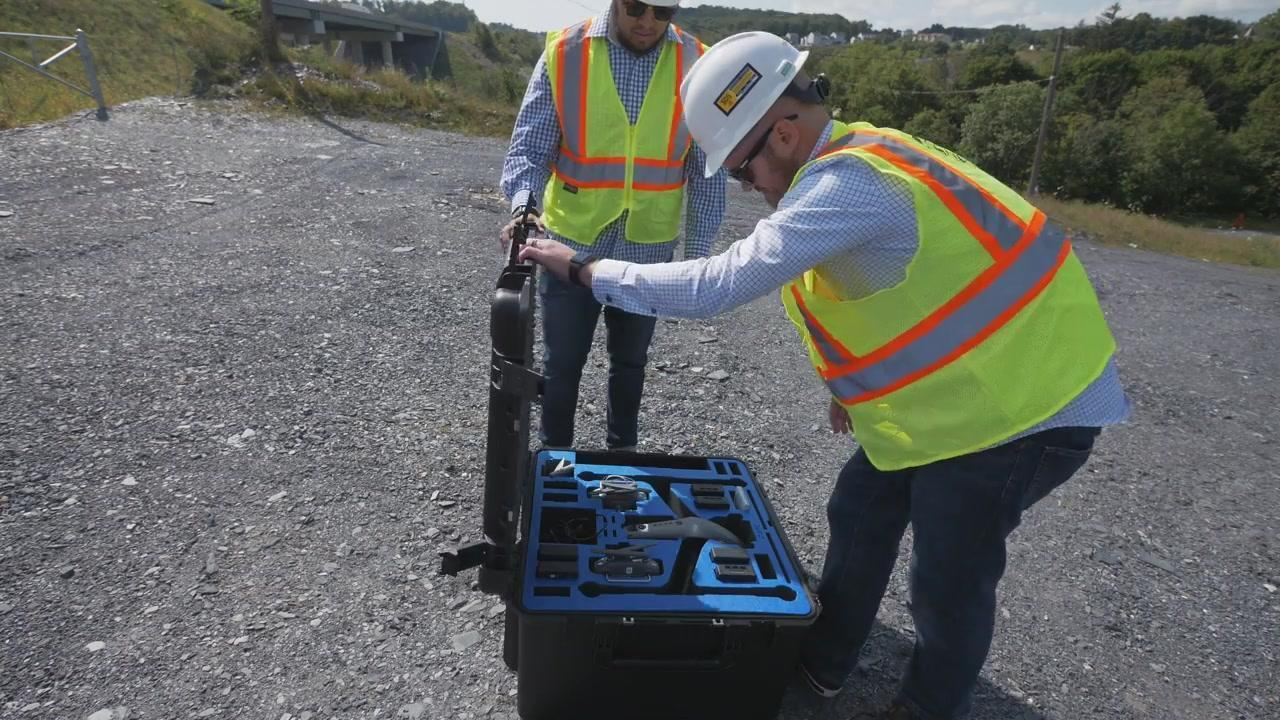vest: (781, 120, 1117, 468), (538, 15, 718, 245)
